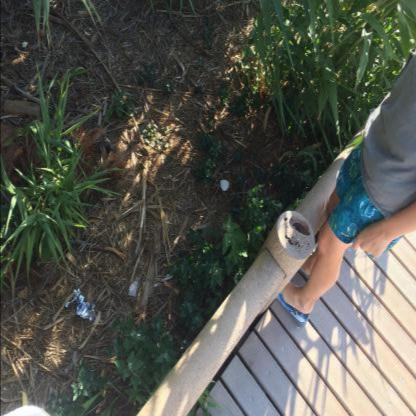Plastic bag - wrapper: (65, 288, 96, 321), (128, 281, 138, 296)
Unlabeled litter: (220, 180, 230, 191)
